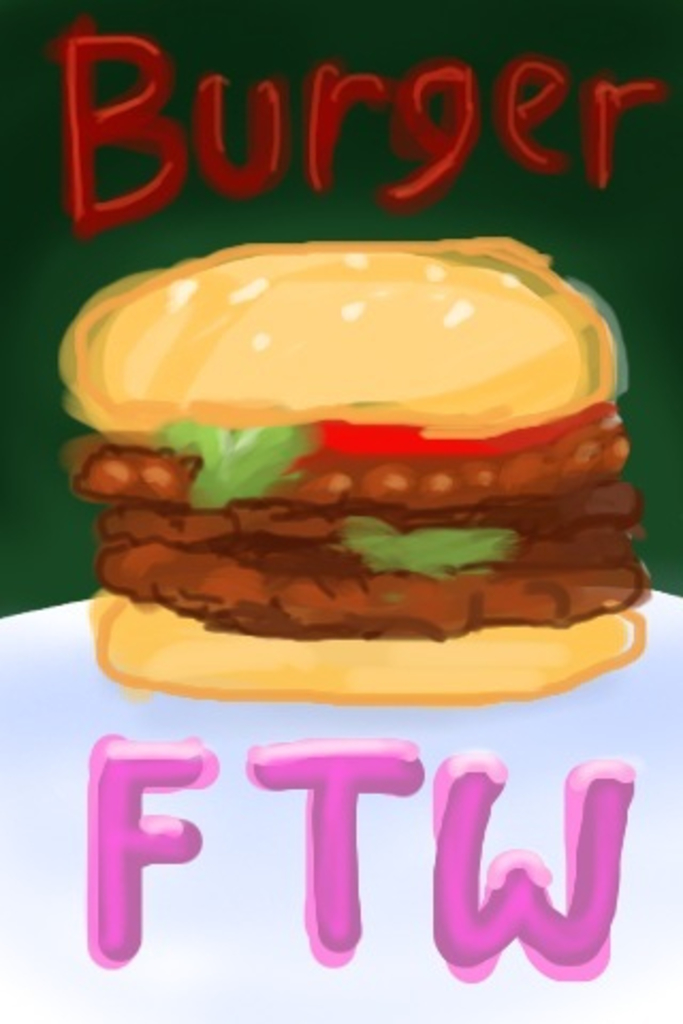Hamburger: (55, 236, 657, 695)
